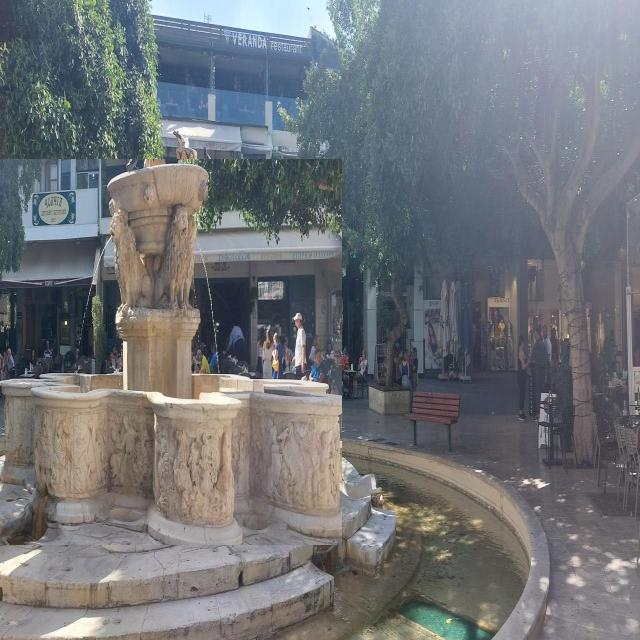Liontaria: (1, 160, 343, 546)
